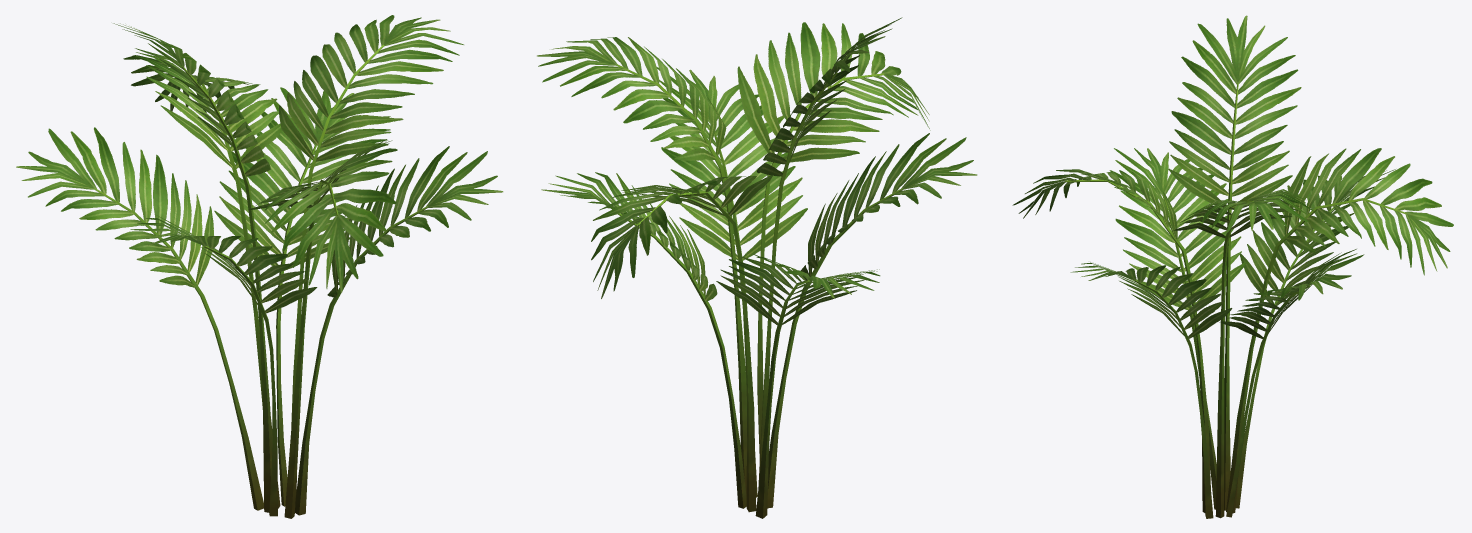
File: D_Plant_008.fbx
3 views of the same model, side by side, from view 1: azimuth 30°, elevation 25°; view 2: azimuth 150°, elevation 25°; view 3: azimuth 270°, elevation 25° (orthographic). The views are drawn at different scales.
Parts seen in each view (by area): view 1: D_Plant_008; view 2: D_Plant_008; view 3: D_Plant_008.
Boxes of the visible parts, left/top/right/bottom form: D_Plant_008: left=16, top=15, right=503, bottom=518; D_Plant_008: left=537, top=17, right=977, bottom=518; D_Plant_008: left=1012, top=15, right=1453, bottom=518.
Bounding box in the file's own units: 1.11 × 1.43 × 1.33.
Materials: 1 (1 with a texture image).
